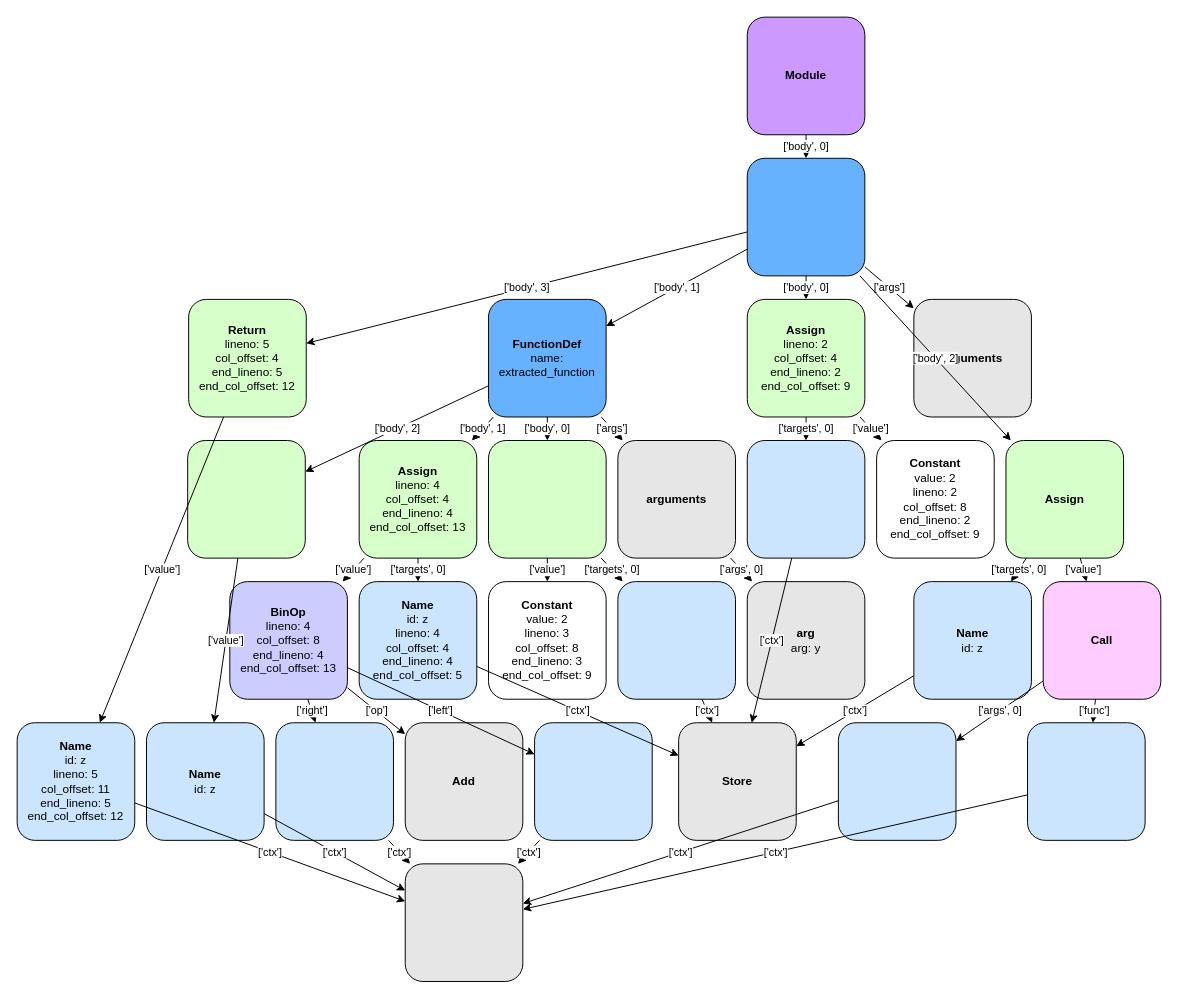
Some shapes in this 1178 by 999 pixel diagram are drawn without their labels. The centre of each missing label's shape, as x and y in pixels:
"Assign lineno: 3 col_offset: 4 end_lineno: 3 end_col_offset: 9" belongs at [547,499].
"FunctionDef name: main lineno: 1 col_offset: 0 end_lineno: 5 end_col_offset: 12" belongs at [805,216].
"Load" belongs at [463,922].
"Name id: extracted_function" belongs at [1086,781].
"Name id: x lineno: 3 col_offset: 4 end_lineno: 3 end_col_offset: 5" belongs at [676,640].
"Name id: x lineno: 4 col_offset: 8 end_lineno: 4 end_col_offset: 9" belongs at [593,781].
"Name id: y" belongs at [896,781].
"Name id: y lineno: 2 col_offset: 4 end_lineno: 2 end_col_offset: 5" belongs at [805,499].
"Name id: y lineno: 4 col_offset: 12 end_lineno: 4 end_col_offset: 13" belongs at [334,781].
"Return" belongs at [246,499].
